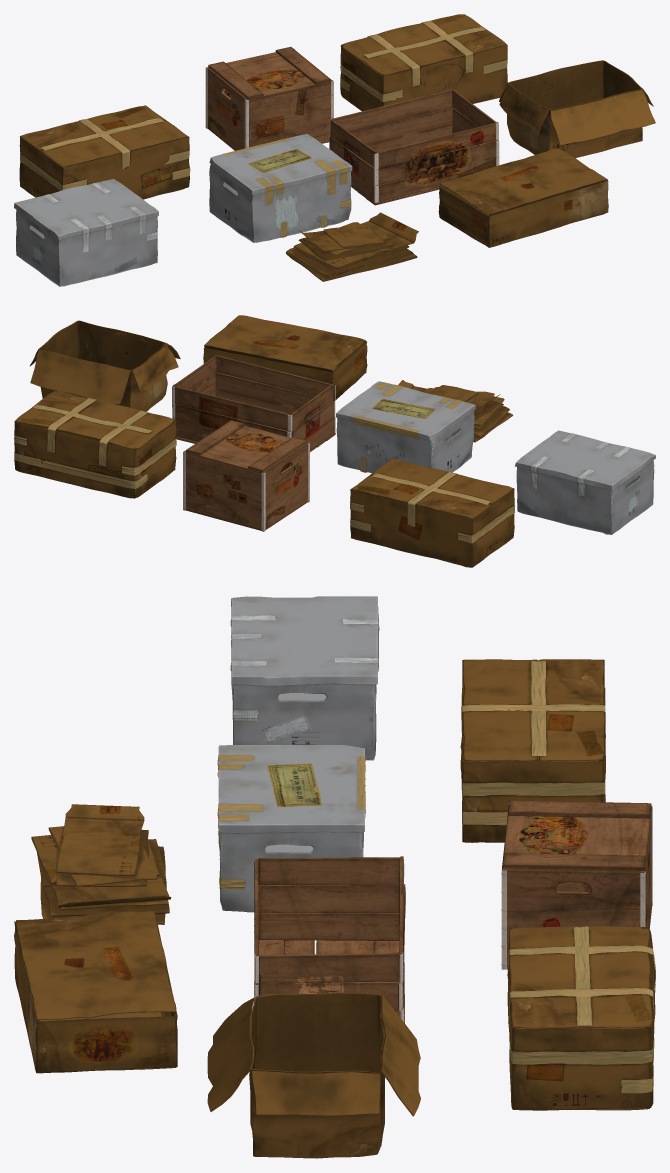
The model's file is BOXES.fbx.
3 views of the same model, one above another, from view 1: azimuth 30°, elevation 25°; view 2: azimuth 150°, elevation 25°; view 3: azimuth 270°, elevation 25° (orthographic). The views are drawn at different scales.
Visible parts, largest first — view 1: pCube955, pCube1274, pPlane215, pPlane227, pSphere4, pCube998, polySurface172, pCube1276, pCube1560; view 2: pPlane227, pCube1274, pSphere4, pCube1276, pCube955, pPlane215, polySurface172, pCube998, pCube1560; view 3: polySurface172, pCube1274, pCube998, pPlane227, pSphere4, pCube955, pCube1276, pPlane215, pCube1560.
Boxes of the visible parts, bbox=[...] form: pCube955: bbox=[329, 89, 499, 205]; pCube1274: bbox=[340, 14, 507, 111]; pPlane215: bbox=[209, 134, 352, 242]; pPlane227: bbox=[19, 105, 190, 199]; pSphere4: bbox=[14, 179, 158, 286]; pCube998: bbox=[438, 148, 608, 247]; polySurface172: bbox=[499, 60, 655, 157]; pCube1276: bbox=[205, 47, 333, 150]; pCube1560: bbox=[286, 212, 418, 281]; pPlane227: bbox=[350, 458, 514, 567]; pCube1274: bbox=[14, 391, 176, 498]; pSphere4: bbox=[515, 430, 655, 534]; pCube1276: bbox=[183, 420, 309, 531]; pCube955: bbox=[172, 355, 335, 451]; pPlane215: bbox=[336, 381, 475, 473]; polySurface172: bbox=[30, 320, 180, 411]; pCube998: bbox=[203, 315, 367, 399]; pCube1560: bbox=[398, 380, 513, 442]; polySurface172: bbox=[207, 992, 420, 1158]; pCube1274: bbox=[507, 926, 655, 1110]; pCube998: bbox=[14, 911, 177, 1073]; pPlane227: bbox=[460, 659, 605, 842]; pSphere4: bbox=[230, 596, 379, 760]; pCube955: bbox=[254, 856, 405, 1022]; pCube1276: bbox=[501, 800, 652, 969]; pPlane215: bbox=[217, 745, 365, 912]; pCube1560: bbox=[31, 804, 171, 924].
Bounding box in the file's own units: 351 × 35.45 × 198.
